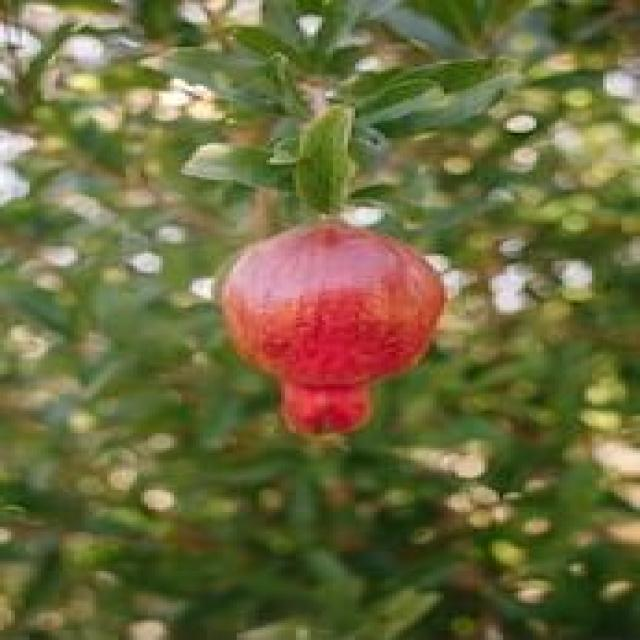Pomegranate: (217, 216, 452, 441)
